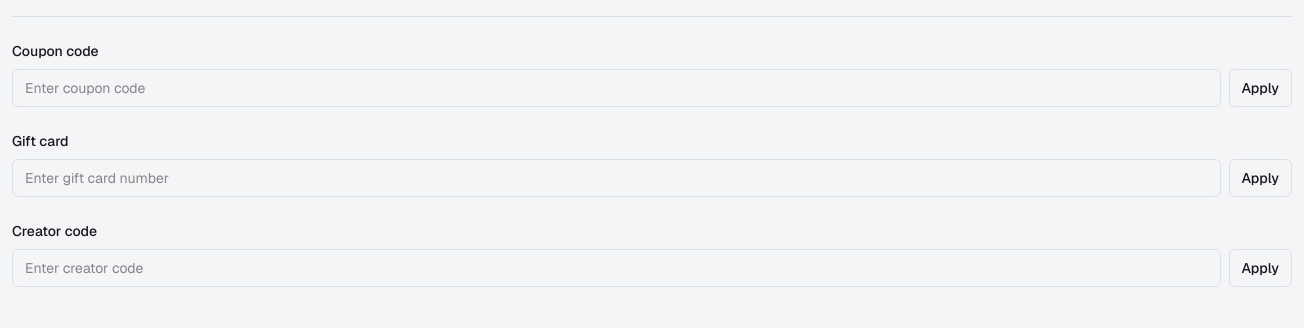
Test: PromoCodes — coupons (multi-entry) › shows the specific error message when applying a coupon fails
Type "FAKE" into the field labelled "coupon code". click: (616, 88)
box: [12,69,1220,107]
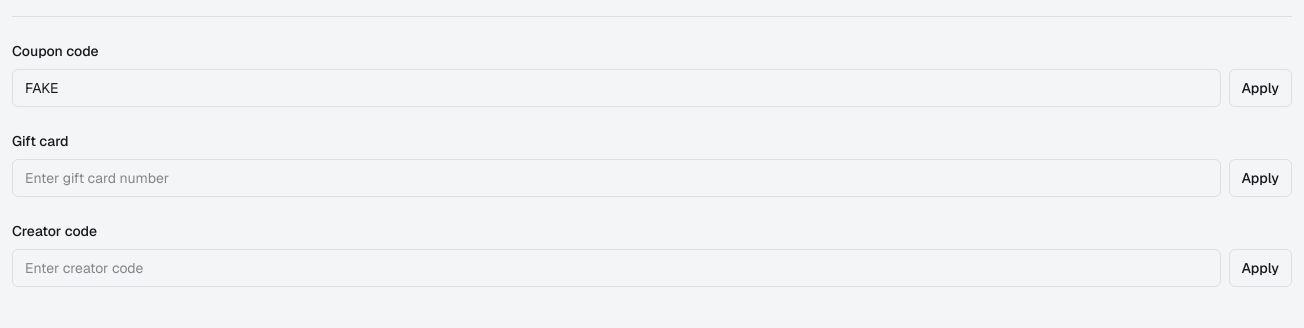
Click the 1st button "Apply". click: click(1260, 88)
box: [1228,69,1292,107]
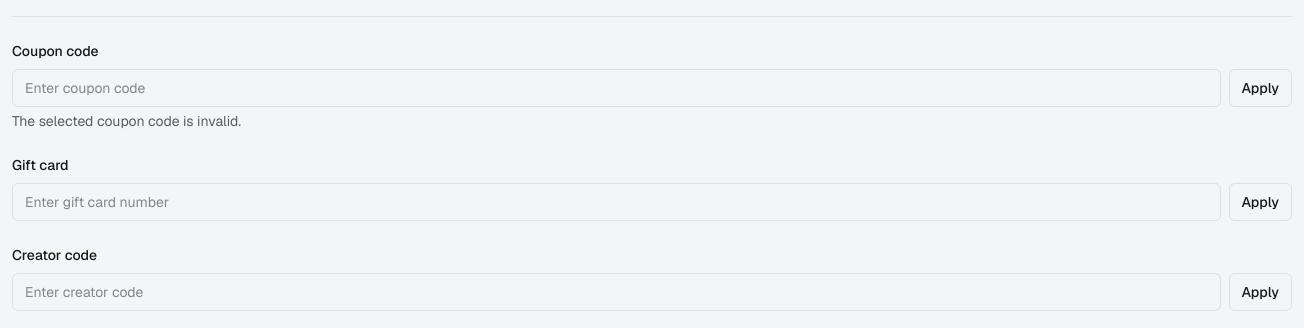
Now the text "The selected coupon code is invalid." is shown, box [12,112,241,130]
